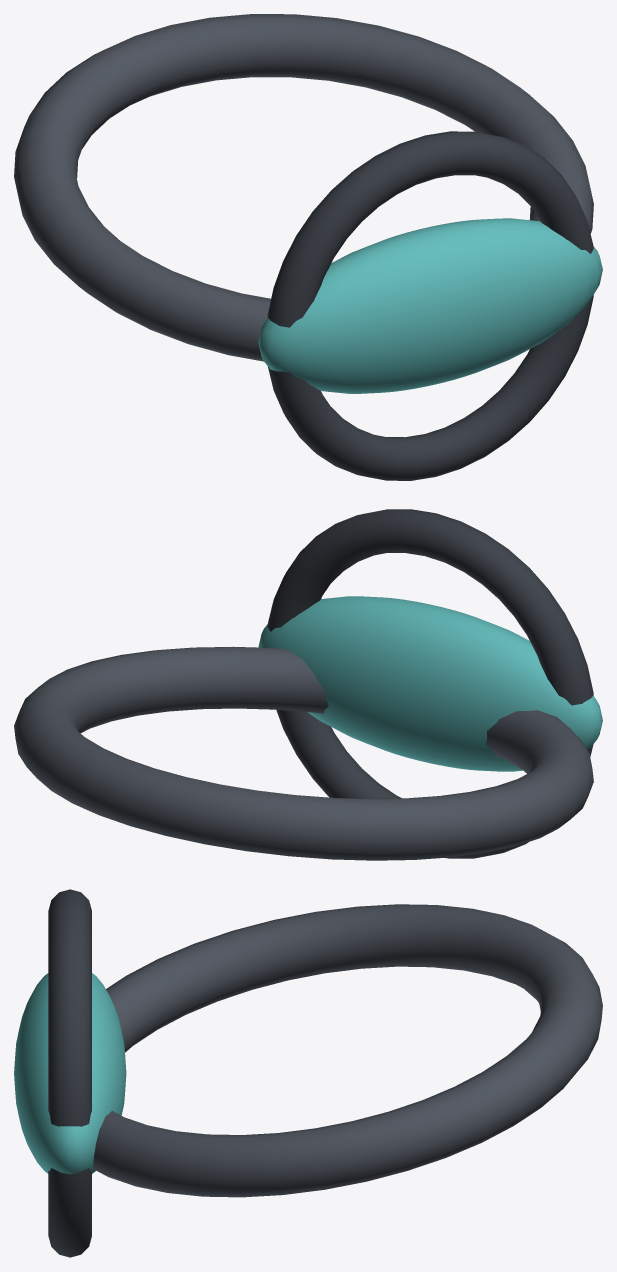
The model's file is head_acc_hat-e.glb.
3 renders of one model, top to bottom at view 1: azimuth 30°, elevation 25°; view 2: azimuth 150°, elevation 25°; view 3: azimuth 270°, elevation 25°, orthographic.
Parts seen in each view (by area): view 1: goggle_strap, goggle_lens, goggle_frame; view 2: goggle_strap, goggle_lens, goggle_frame; view 3: goggle_strap, goggle_frame, goggle_lens.
Boxes of the visible parts, <box> form: goggle_strap: <box>14,14,593,361</box>; goggle_lens: <box>258,218,602,393</box>; goggle_frame: <box>267,131,593,480</box>; goggle_strap: <box>14,646,593,860</box>; goggle_lens: <box>258,596,602,771</box>; goggle_frame: <box>267,509,593,858</box>; goggle_strap: <box>93,904,602,1197</box>; goggle_frame: <box>48,889,91,1257</box>; goggle_lens: <box>14,973,126,1174</box>.
Bounding box in the file's own units: 0.184 × 0.118 × 0.1886.
